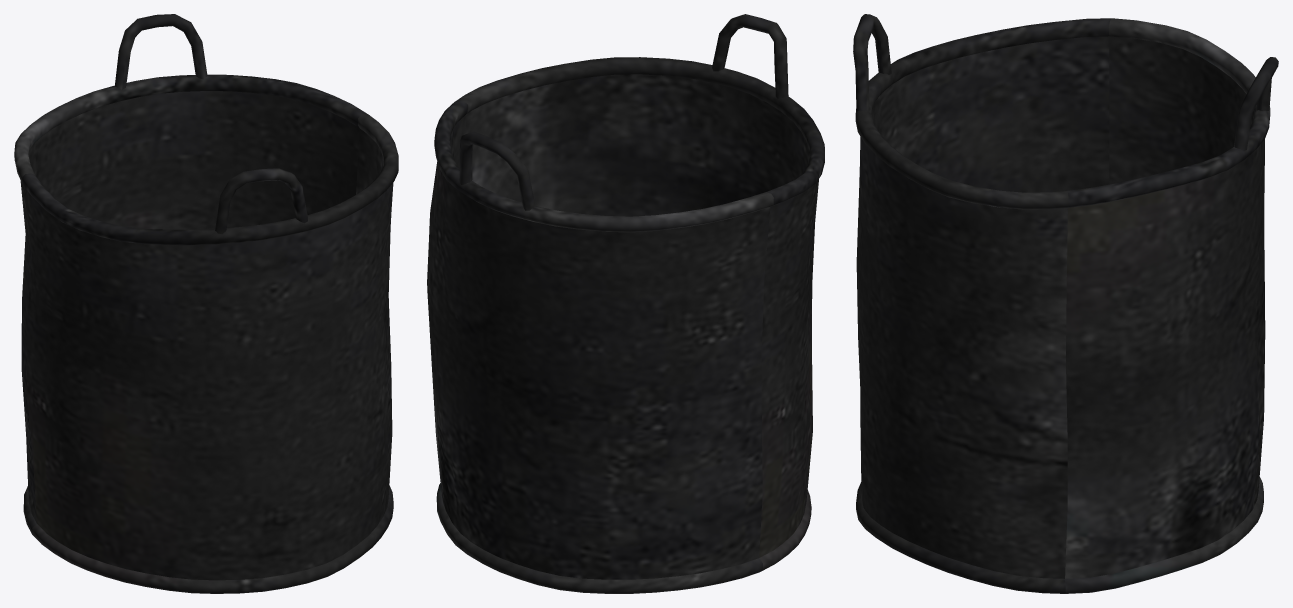
File: SM_HerbStore_02.fbx
3 renders of one model, left to right at view 1: azimuth 30°, elevation 25°; view 2: azimuth 150°, elevation 25°; view 3: azimuth 270°, elevation 25°, orthographic. The views are drawn at different scales.
Parts seen in each view (by area): view 1: SM_HerbStore_02; view 2: SM_HerbStore_02; view 3: SM_HerbStore_02.
Boxes of the visible parts, x1,y1,x2,y2 form: SM_HerbStore_02: [14, 14, 398, 593]; SM_HerbStore_02: [427, 14, 824, 593]; SM_HerbStore_02: [853, 14, 1278, 593].
Bounding box in the file's own units: 80.97 × 80.57 × 97.59.
2 materials, 2 textured.
